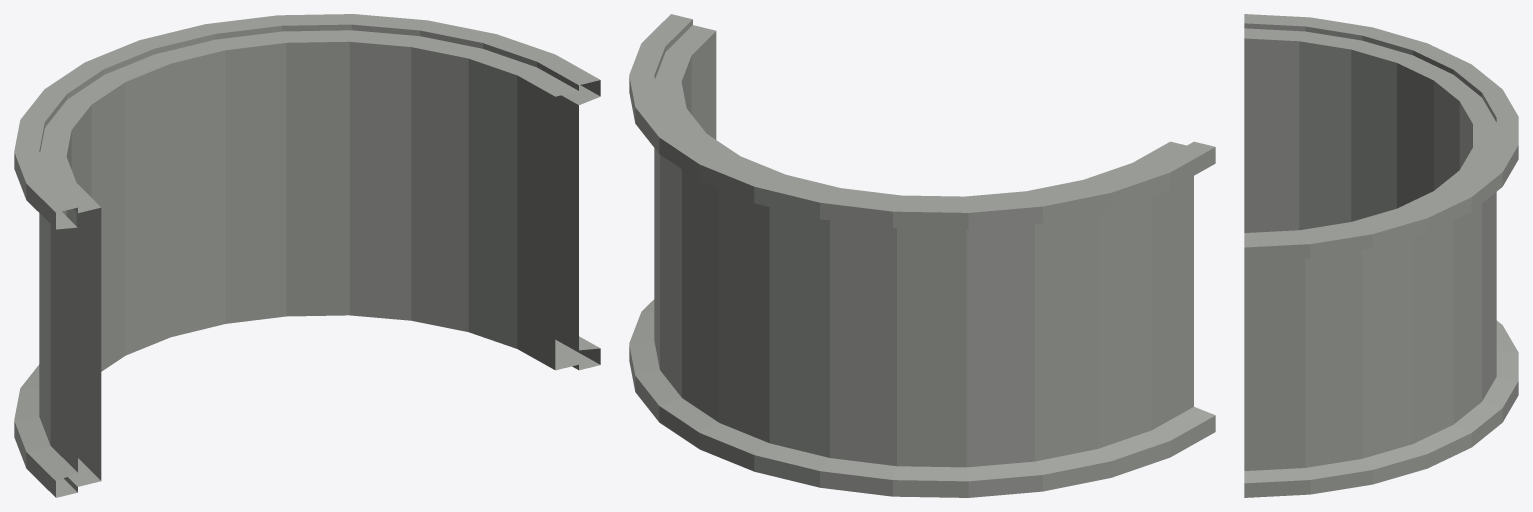
Rendered from industrial-portal-unit-authored-atlas.glb.
3 views of the same model, side by side, from view 1: azimuth 30°, elevation 25°; view 2: azimuth 150°, elevation 25°; view 3: azimuth 270°, elevation 25° (orthographic). The views are drawn at different scales.
Parts seen in each view (by area): view 1: Authored surface; view 2: Authored surface; view 3: Authored surface.
Part boxes in pixels (<box>): Authored surface: <box>14,14,600,497</box>; Authored surface: <box>629,14,1215,497</box>; Authored surface: <box>1244,14,1518,497</box>.
Bounding box in the file's own units: 2 × 1 × 0.9927.
Materials: 1 (1 with a texture image).
